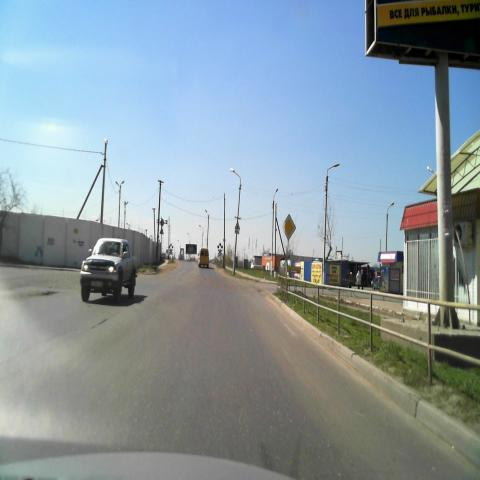2_1: (282, 214, 296, 239)
